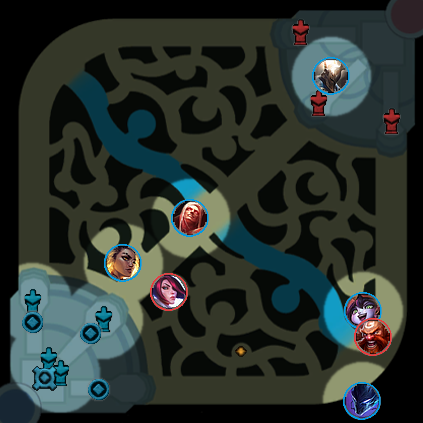Fiora: (150, 273, 188, 311)
Gragas: (354, 318, 392, 356)
Lulu: (344, 292, 382, 330)
Nocturne: (343, 382, 381, 420)
Pantheon: (312, 57, 350, 95)
Rell: (104, 244, 142, 282)
Vladimir: (171, 199, 209, 237)
